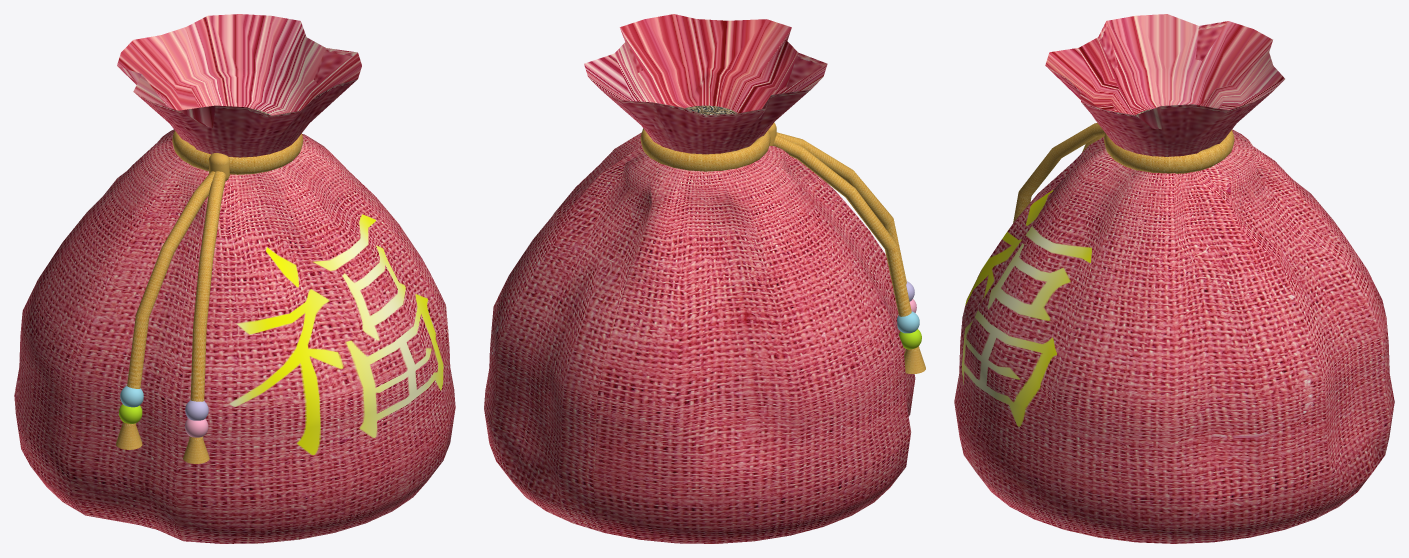
File: money.FBX
The picture shows the model from 3 angles, left to right: view 1: azimuth 30°, elevation 25°; view 2: azimuth 150°, elevation 25°; view 3: azimuth 270°, elevation 25°; orthographic projection.
Parts seen in each view (by area): view 1: money; view 2: money; view 3: money.
Part boxes in pixels (<box>): money: <box>14,14,455,543</box>; money: <box>484,14,925,543</box>; money: <box>954,14,1394,543</box>.
Size of the model in its own units: 49.4 by 52.38 by 49.4.
